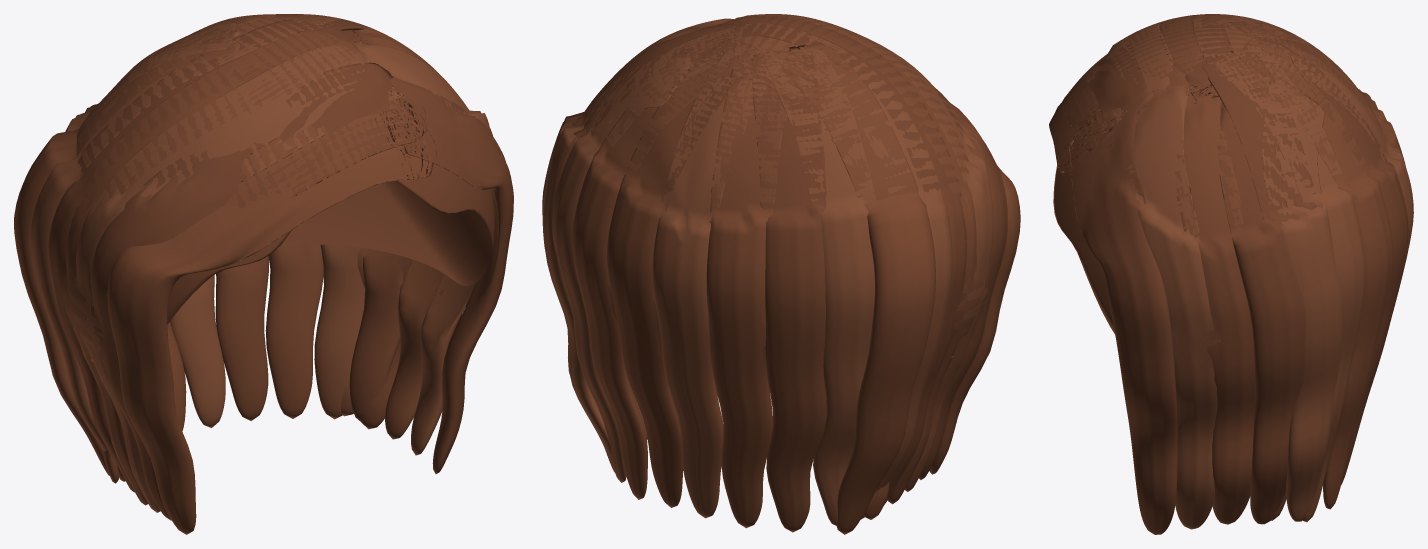
File: Feminine-side-sweep-headband251-hair.glb
3 renders of one model, left to right at view 1: azimuth 30°, elevation 25°; view 2: azimuth 150°, elevation 25°; view 3: azimuth 270°, elevation 25°, orthographic. The views are drawn at different scales.
Visible parts, largest first — view 1: 226 hair / Hair / sculpted 0.004, 226 hair / Hair / sculpted 1.008, 226 hair / Hair / sculpted 2.004, 226 hair / Hair / sculpted 1.007; view 2: 226 hair / Hair / sculpted 0.004, 226 hair / Hair / sculpted 2.004, 226 hair / Hair / sculpted 1.008; view 3: 226 hair / Hair / sculpted 1.008, 226 hair / Hair / sculpted 2.004, 226 hair / Hair / sculpted 0.004, 226 hair / Hair / sculpted 1.007.
Boxes of the visible parts, bbox=[...] form: 226 hair / Hair / sculpted 0.004: bbox=[14, 14, 456, 534]; 226 hair / Hair / sculpted 1.008: bbox=[48, 14, 513, 520]; 226 hair / Hair / sculpted 2.004: bbox=[30, 14, 496, 512]; 226 hair / Hair / sculpted 1.007: bbox=[91, 164, 494, 361]; 226 hair / Hair / sculpted 0.004: bbox=[572, 14, 1020, 534]; 226 hair / Hair / sculpted 2.004: bbox=[542, 14, 993, 525]; 226 hair / Hair / sculpted 1.008: bbox=[542, 15, 1007, 532]; 226 hair / Hair / sculpted 1.008: bbox=[1062, 14, 1408, 534]; 226 hair / Hair / sculpted 2.004: bbox=[1085, 14, 1413, 529]; 226 hair / Hair / sculpted 0.004: bbox=[1049, 14, 1405, 524]; 226 hair / Hair / sculpted 1.007: bbox=[1053, 165, 1114, 333].
Size of the model in its own units: 1.02 by 1.07 by 0.8091.
